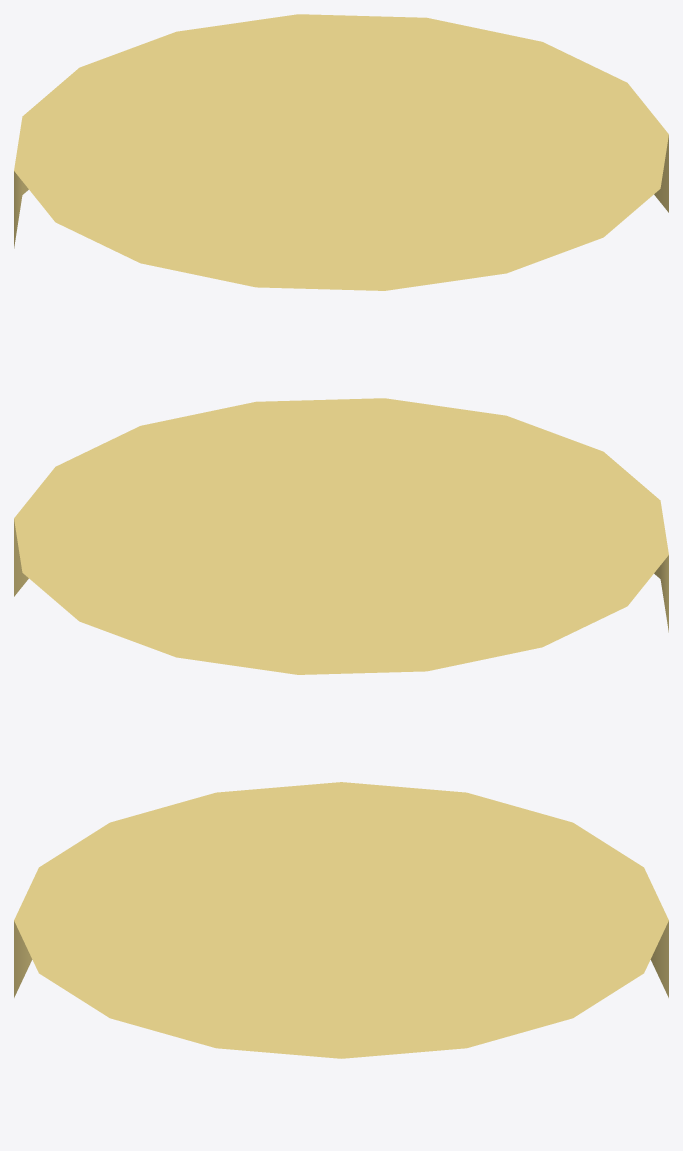
File: coin.glb
The picture shows the model from 3 angles, top to bottom: view 1: azimuth 30°, elevation 25°; view 2: azimuth 150°, elevation 25°; view 3: azimuth 270°, elevation 25°; orthographic projection.
Visible parts, largest first — view 1: mesh; view 2: mesh; view 3: mesh.
Boxes of the visible parts, x1,y1,x2,y2 form: mesh: (14, 14, 668, 290); mesh: (14, 398, 668, 674); mesh: (14, 782, 668, 1058).
Bounding box in the file's own units: 0.76 × 0.1 × 0.76.
